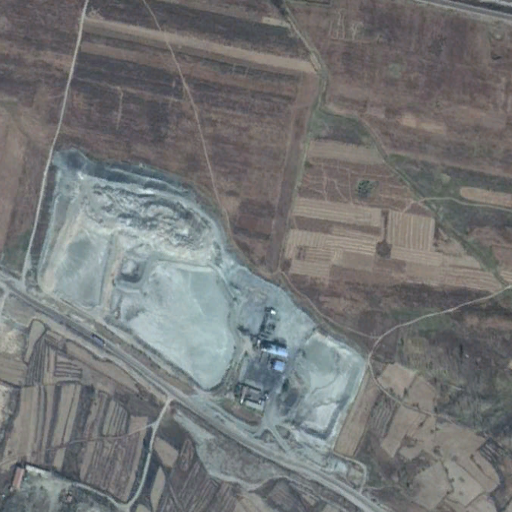tp: (42, 199, 366, 454)
